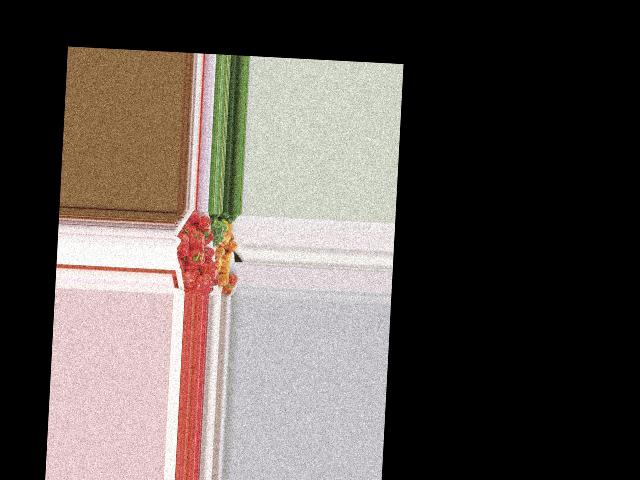bell_pepper: (174, 233, 190, 258)
